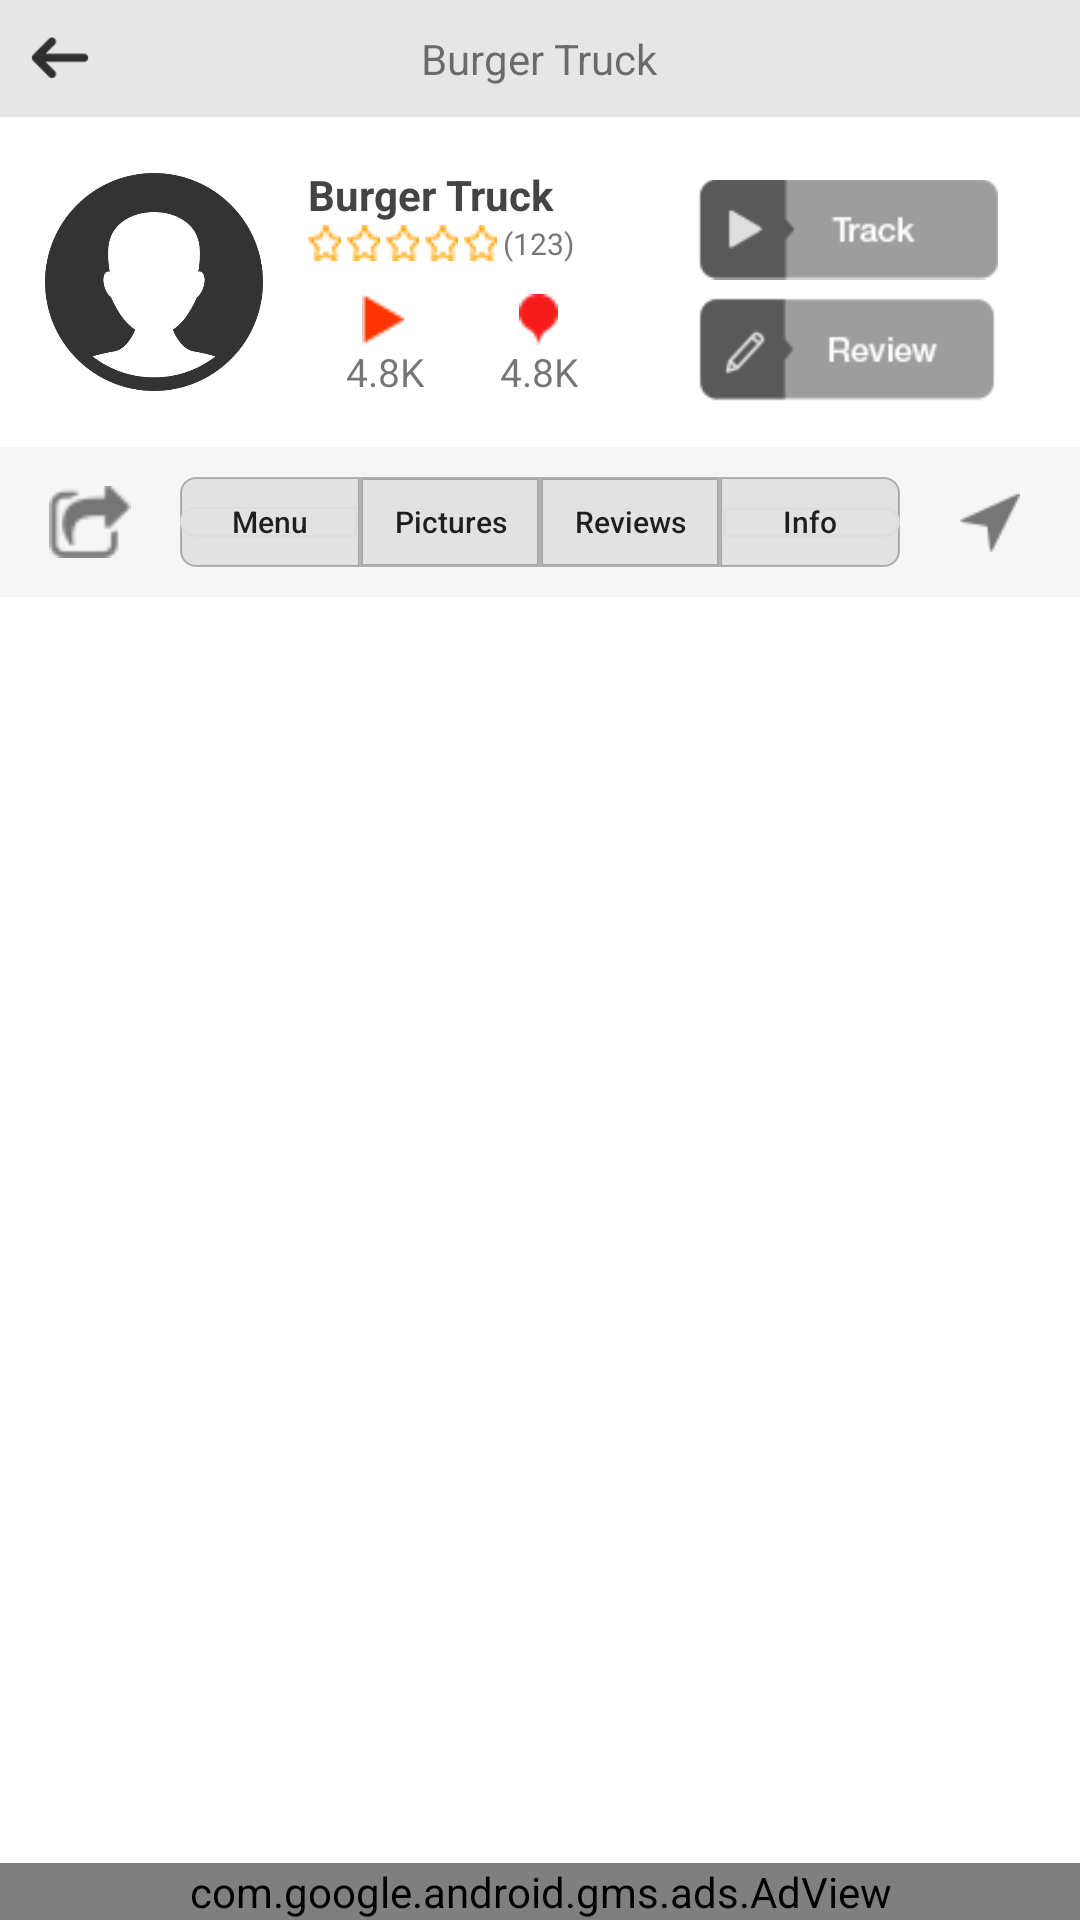

Point at icon controls on the screen. Image size 1080px x 1920px, points as point (x, y).
back: point (60, 57)
checkbox rating: point (324, 243), point (363, 243), point (402, 243), point (441, 243), point (480, 243)
profile: point (154, 282)
redpin: point (538, 319)
share: point (90, 522)
